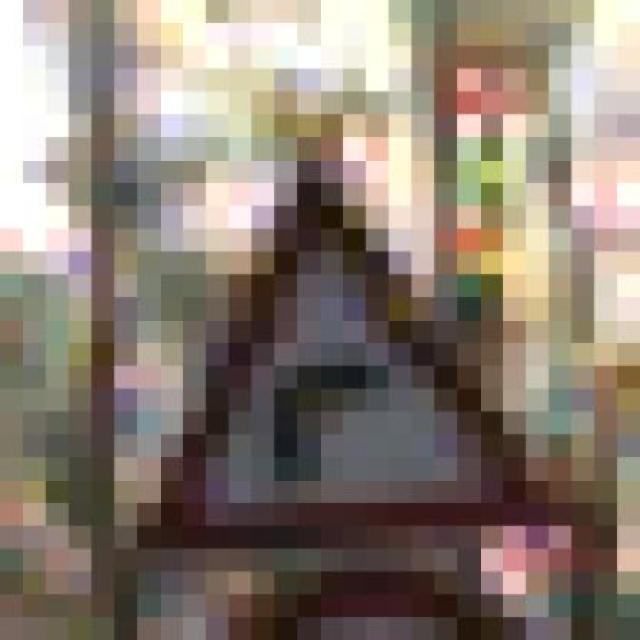Dangerous Rright Curve Ahead: (114, 159, 572, 572)
